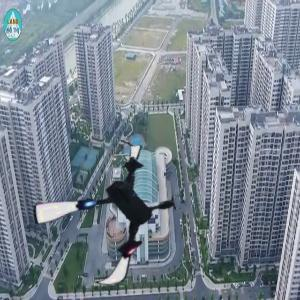drone: (36, 143, 187, 294)
